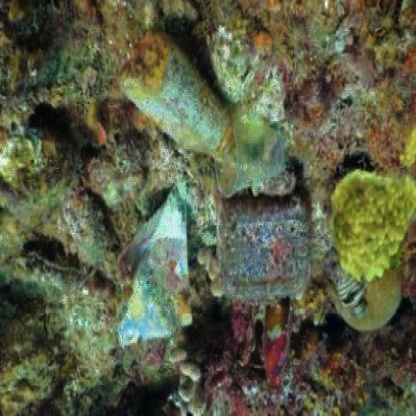gbottle: (126, 38, 251, 206)
misc: (208, 196, 340, 334)
plastic: (102, 197, 200, 354), (220, 127, 292, 199)
